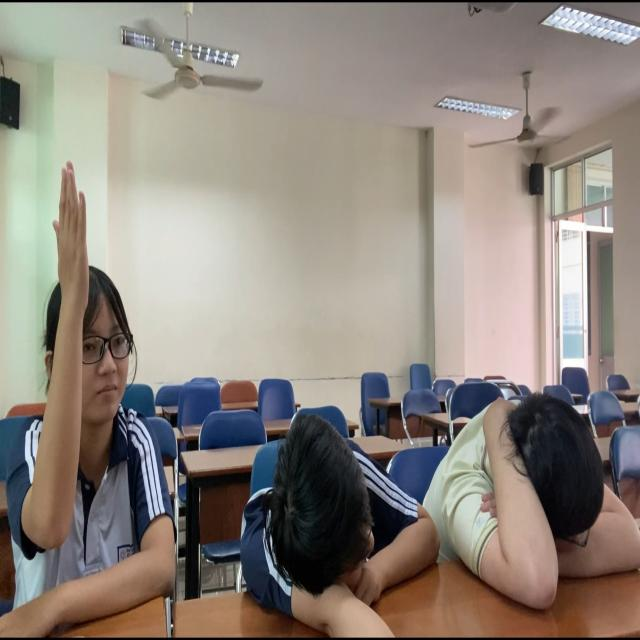raise_hand: (11, 149, 199, 640)
sleep: (421, 354, 640, 619), (227, 395, 449, 640)
